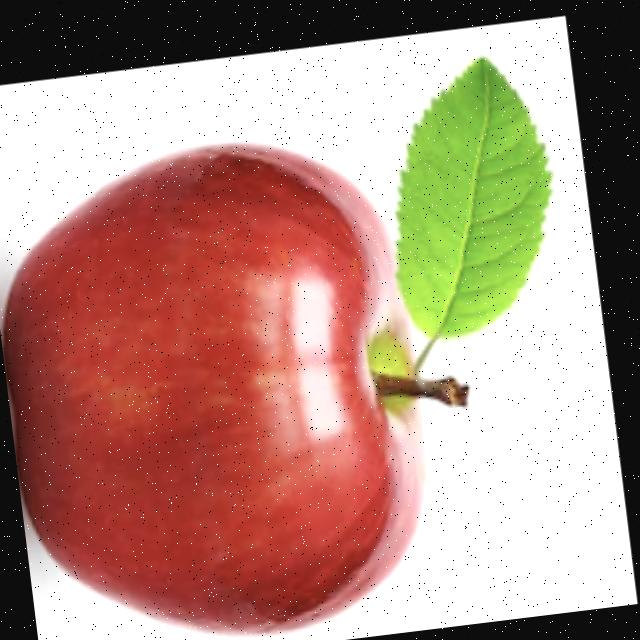Ripe: (0, 107, 495, 640)
